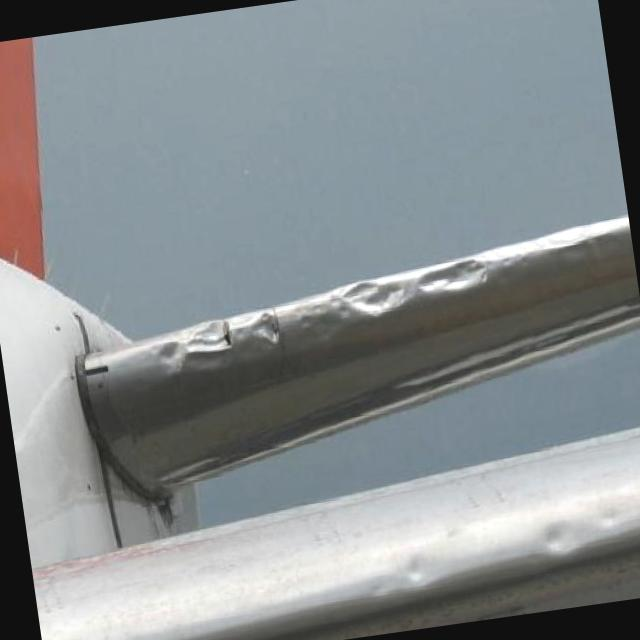crack: (219, 314, 236, 355)
dent: (150, 218, 632, 372)
